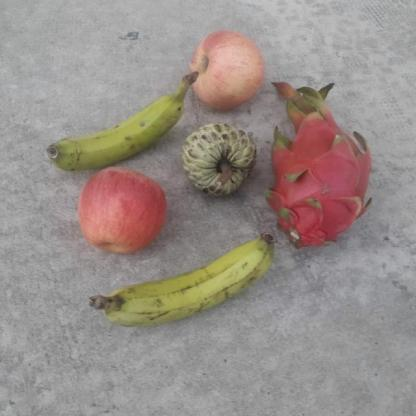annona: (181, 123, 266, 193)
apple: (79, 165, 167, 256), (187, 30, 266, 110)
banana: (88, 232, 274, 328), (46, 72, 200, 170)
pitaya: (264, 81, 374, 249)
